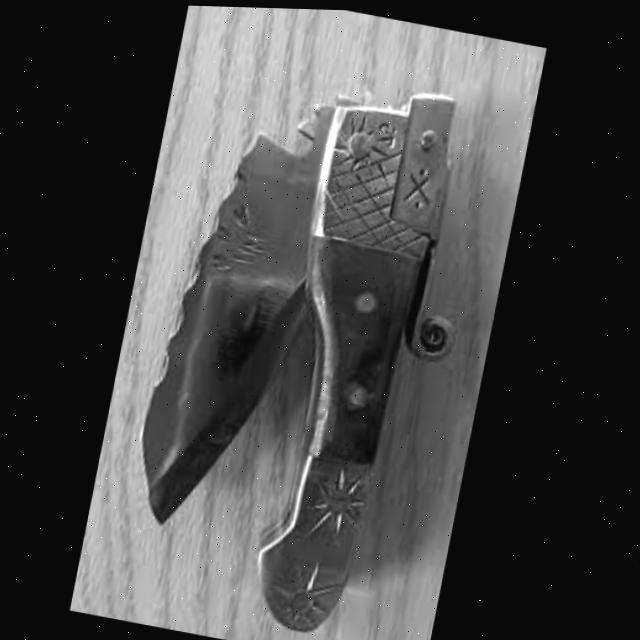Knife: (129, 60, 471, 564)
